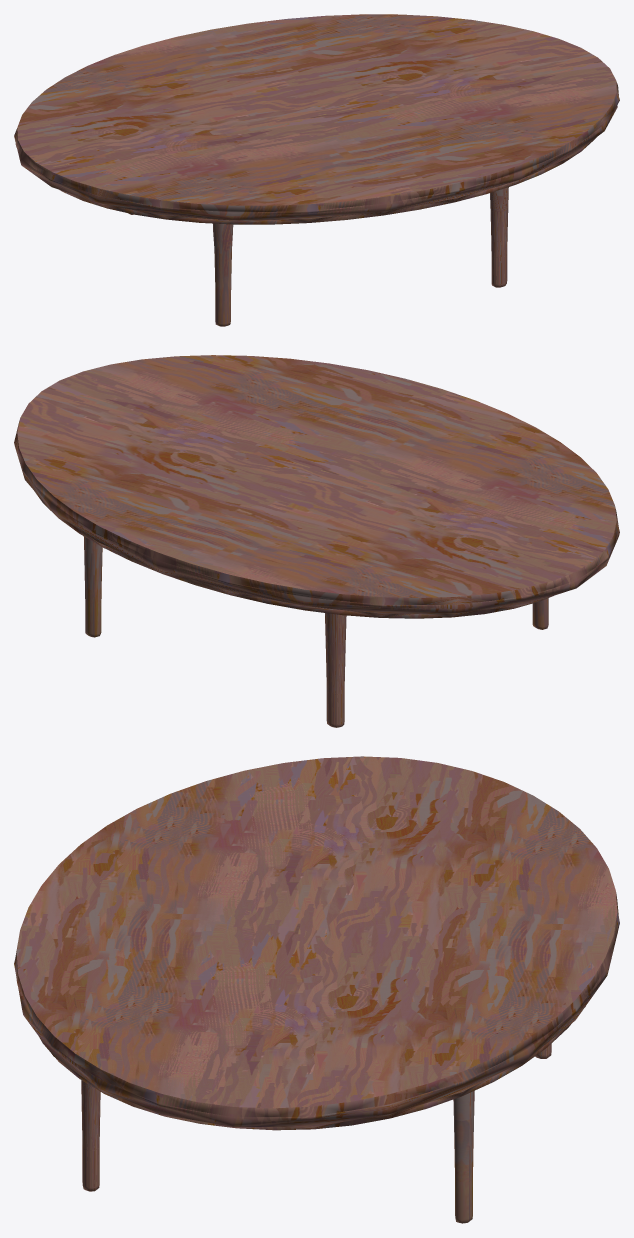
Rendered from wood_table.glb.
3 renders of one model, top to bottom at view 1: azimuth 30°, elevation 25°; view 2: azimuth 150°, elevation 25°; view 3: azimuth 270°, elevation 25°, orthographic. The views are drawn at different scales.
Visible parts, largest first — view 1: Object_35.002; view 2: Object_35.002; view 3: Object_35.002.
Boxes of the visible parts, x1=… form: Object_35.002: x1=14, y1=14, x2=619, y2=326; Object_35.002: x1=14, y1=355, x2=619, y2=727; Object_35.002: x1=14, y1=756, x2=619, y2=1223.
Bounding box in the file's own units: 2.31 × 0.5781 × 1.67.
Materials: 1 (1 with a texture image).
